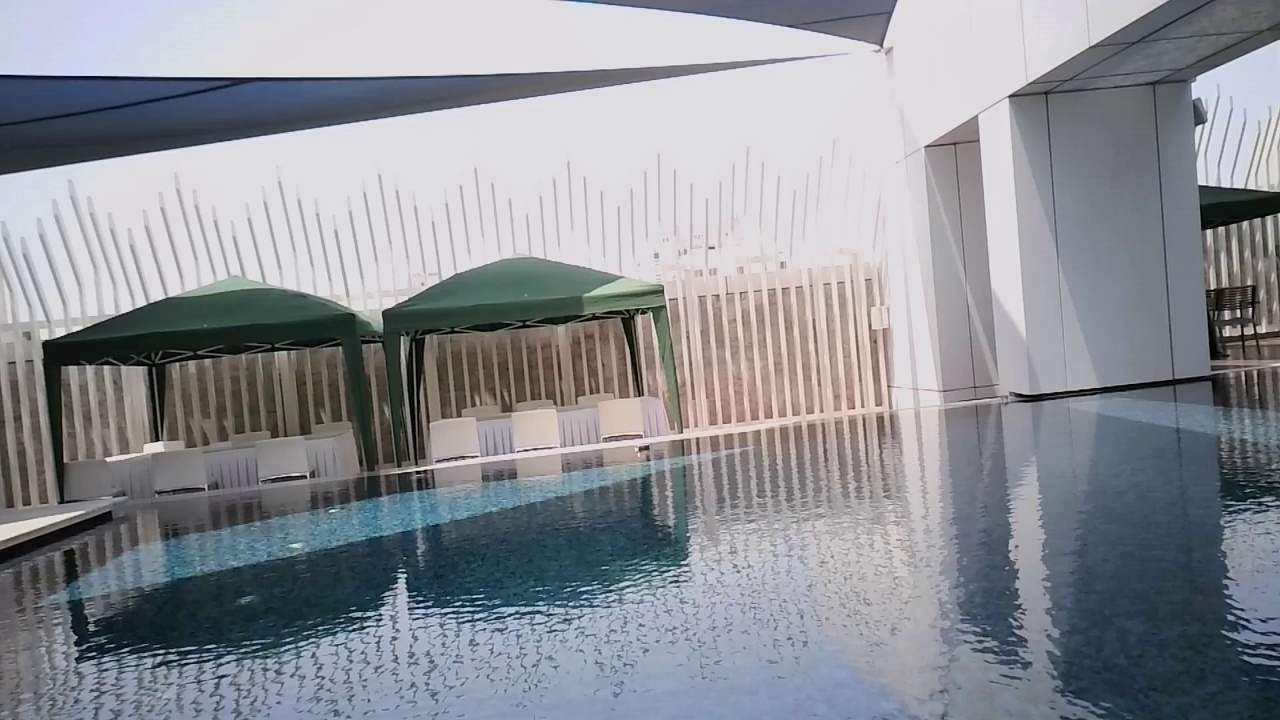debris: (632, 439, 652, 458), (996, 391, 1012, 407)
